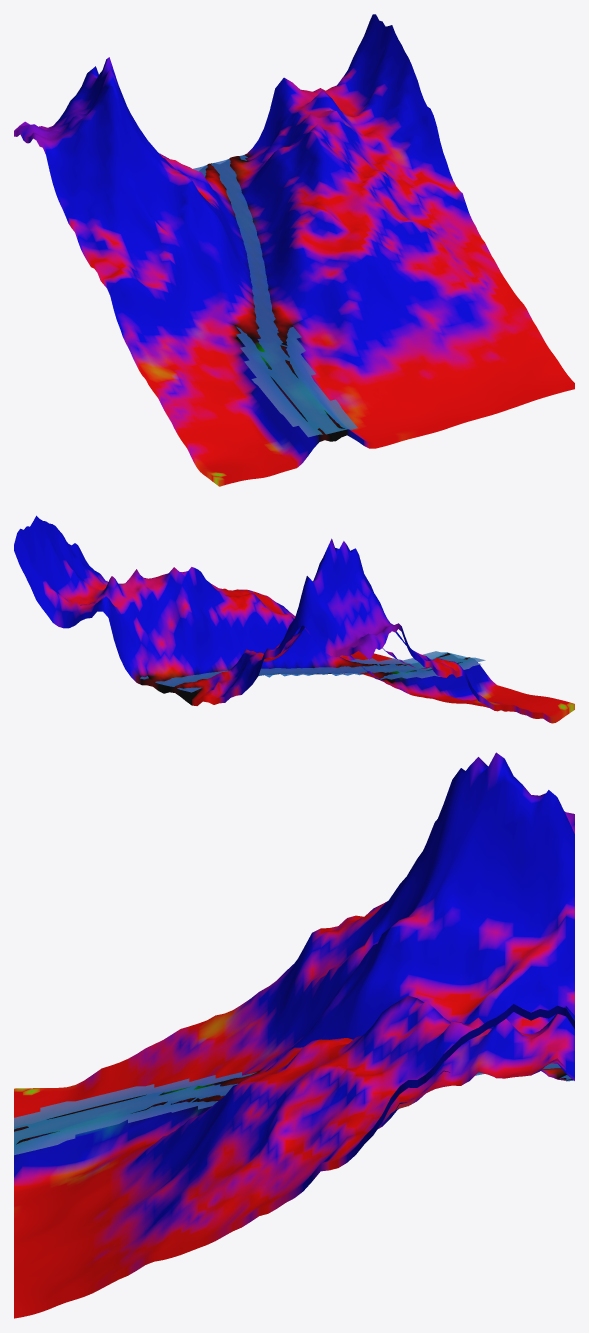
File: chunk_5_1.glb
3 views of the same model, one above another, from view 1: azimuth 30°, elevation 25°; view 2: azimuth 150°, elevation 25°; view 3: azimuth 270°, elevation 25° (orthographic). The views are drawn at different scales.
Parts seen in each view (by area): view 1: LOD0, Water; view 2: LOD0, Water; view 3: LOD0, Water.
Part boxes in pixels (box(x1,y1,x2,y2)): LOD0: box(14, 14, 574, 486); Water: box(193, 155, 357, 437); LOD0: box(14, 515, 574, 723); Water: box(140, 651, 485, 692); LOD0: box(14, 752, 574, 1318); Water: box(14, 1063, 573, 1155).
Size of what is drawn, in the model's own units: 256 by 197 by 256.
